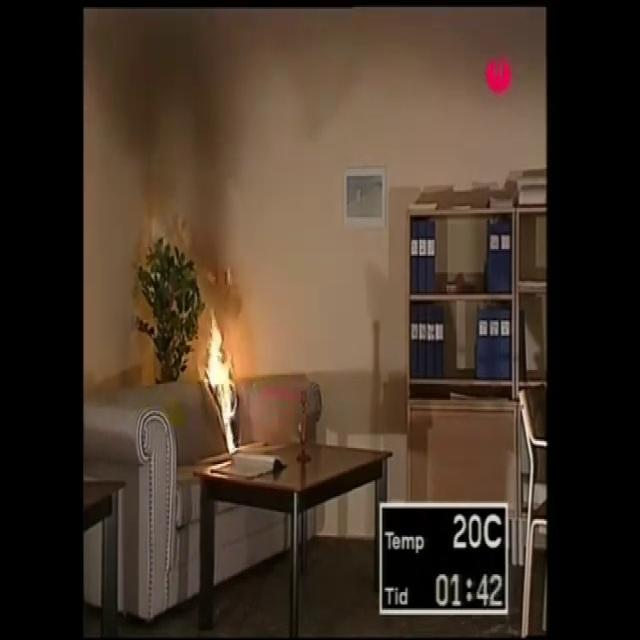Fire: (202, 309, 242, 437)
Smoke: (81, 0, 554, 254)
